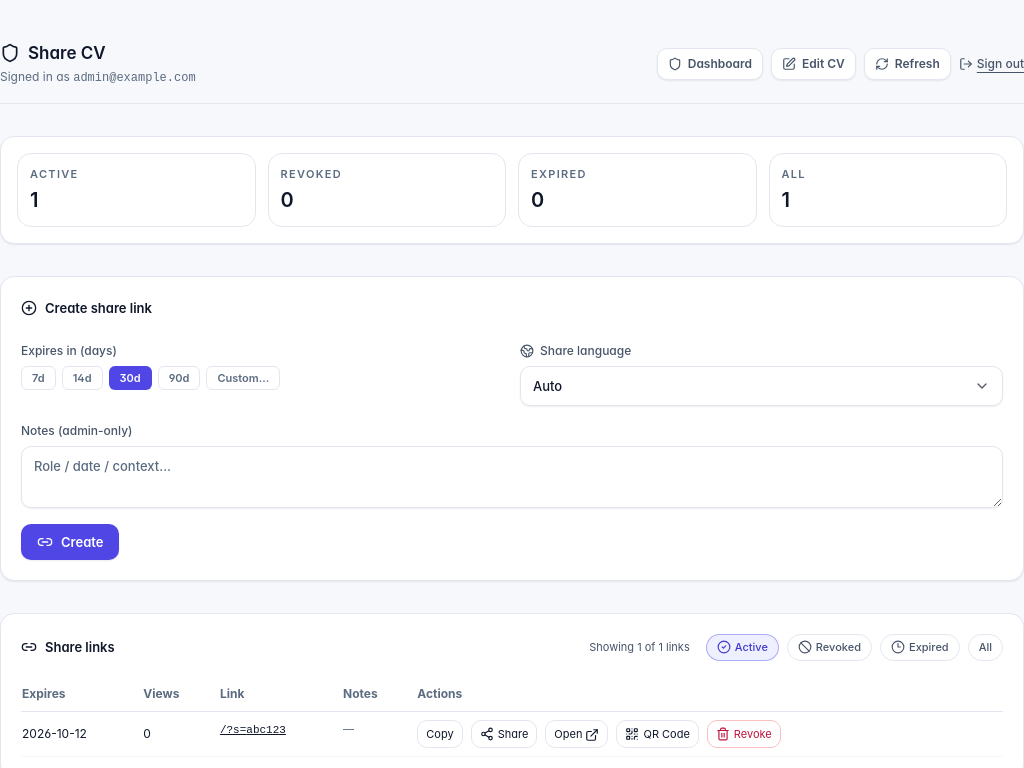
it: AdminShareRoute › shows inline panel with share URL after successful link creation
This screenshot has width=1024, height=768.
Click the submit button: (70, 542) [21,524,119,560]
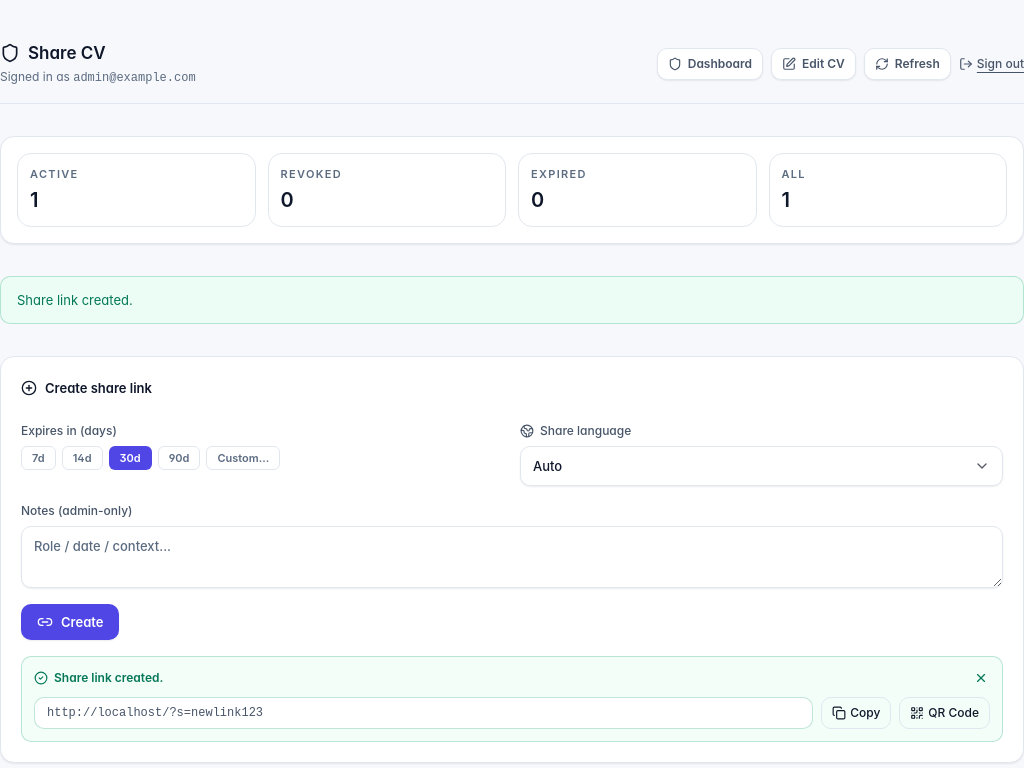
Expected: the button named "Dismiss" is shown, [972,669,990,687]
